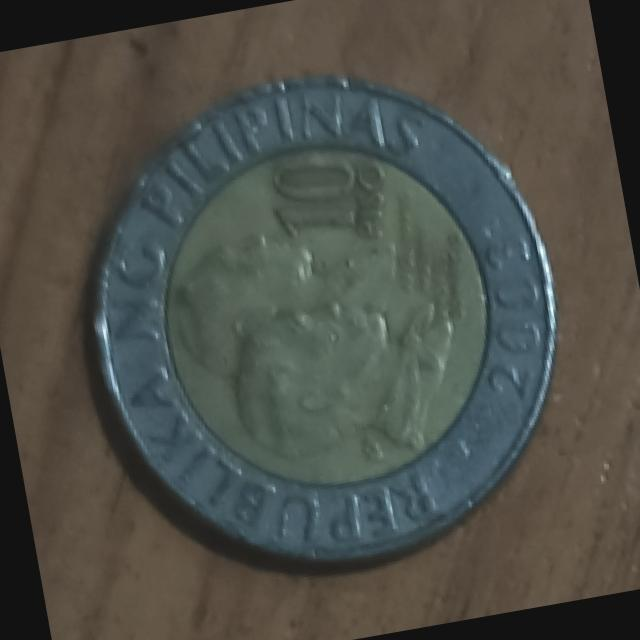10_peso: (94, 78, 554, 560)
